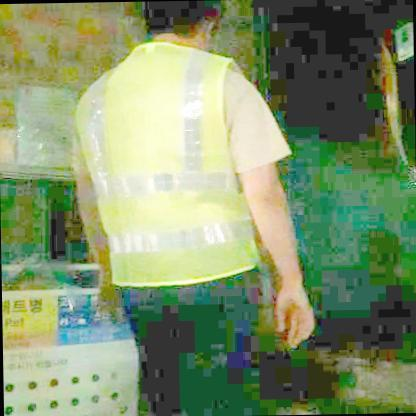vest: (71, 41, 255, 290)
